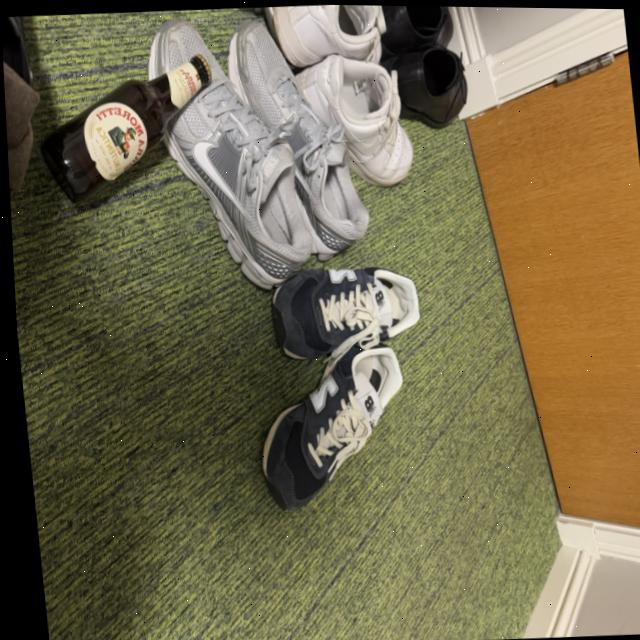beer: (30, 47, 227, 214)
